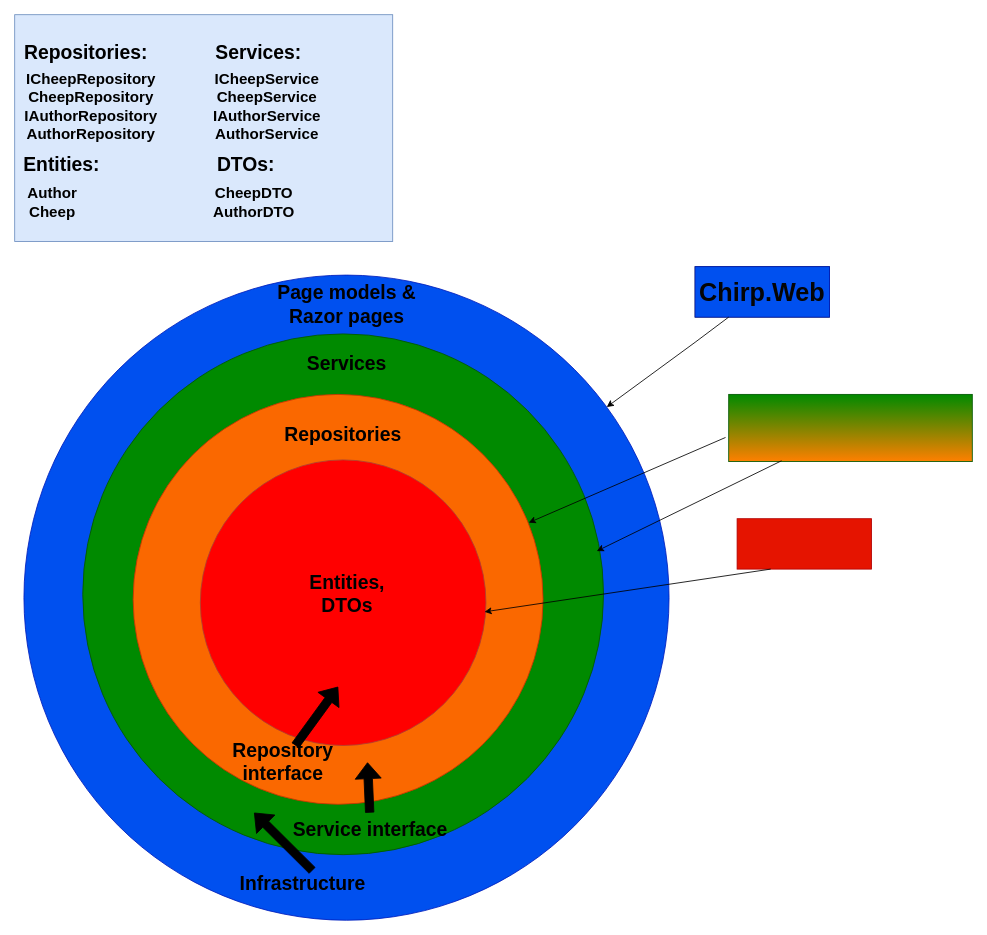
The diagram is 987 pixels wide and 935 high, and some of its shapes have lost their labels. The shapes that lost their labels are listed below. From the top down, each one's centre as x and y in pixels, then its label:
At (850,428): "Chirp.Infrastructure".
At (804,543): "Chirp.Core".
